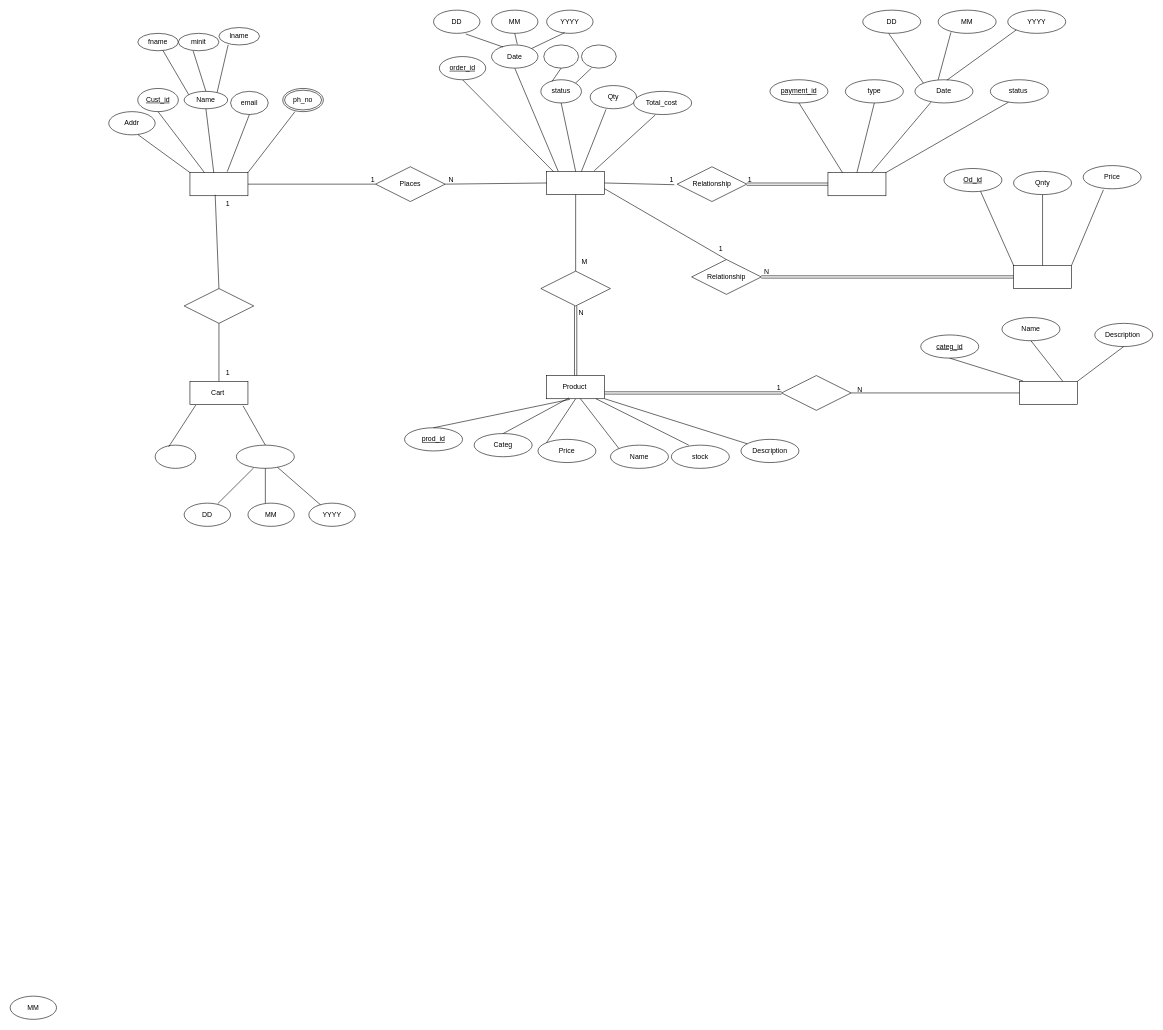
This 1163x1030 diagram has some shape labels left out. Each missing label, with the box of its shape:
Belongs: (781, 375, 851, 410)
Cart_id: (155, 445, 196, 468)
category: (1019, 381, 1077, 405)
Confirmed: (581, 44, 616, 68)
Contains: (540, 271, 610, 306)
Create: (184, 288, 254, 323)
Creation_Date: (236, 445, 294, 468)
Customer: (189, 172, 248, 196)
Declined: (543, 44, 579, 68)
orderDetails: (1013, 265, 1072, 289)
ordrer: (546, 171, 605, 195)
Payment: (827, 172, 886, 196)
